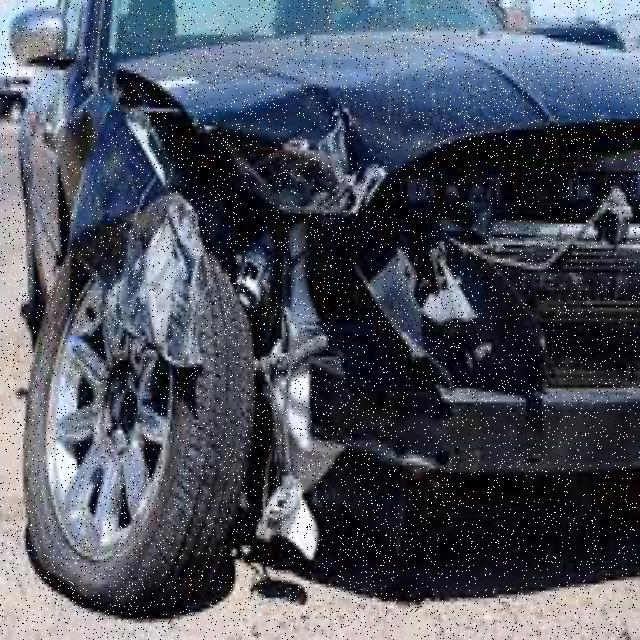bonnet-dent: (105, 21, 638, 224)
